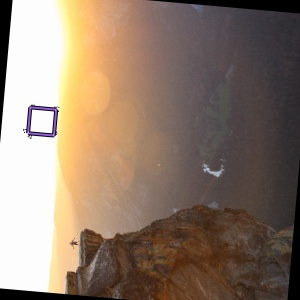square: (24, 103, 60, 139)
